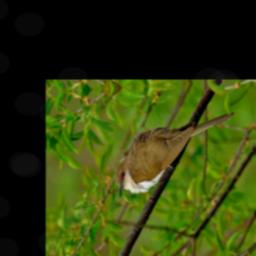Cuckoo: (112, 110, 239, 199)
